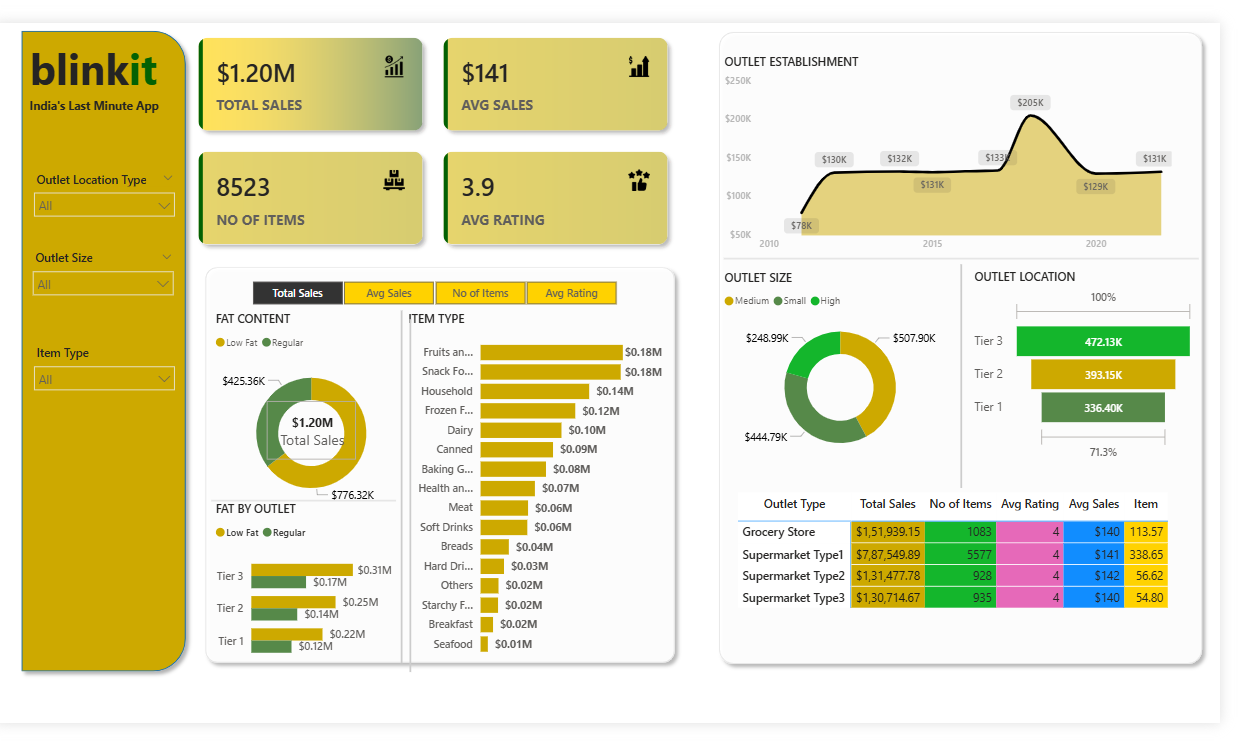

What the dashboard file says about the page in this screenshot:
{"tool":"powerbi","page":{"name":"Page 1","canvas":[1400,800],"ordinal":0},"visuals":[{"type":"shape","box":[21.1,0,205.6,750],"z":0},{"type":"textbox","box":[4,80,218,84],"z":1000},{"type":"textbox","box":[262.7,400,204.5,350],"z":2000},{"type":"textbox","box":[26,14,174,88],"z":3000},{"type":"cardVisual","fields":{"Data":["BlinkIT Grocery Data.Total Sales","BlinkIT Grocery Data.Avg Sales","BlinkIT Grocery Data.No of Items","BlinkIT Grocery Data.Avg Rating"]},"box":[215.7,0,570,270],"z":4000},{"type":"shape","box":[231.4,270,554.3,470],"z":5000},{"type":"donutChart","title":"FAT CONTENT","fields":{"Y":["BlinkIT Grocery Data.Avg Rating"],"Category":["BlinkIT Grocery Data.Item Fat Content"]},"box":[247.5,328.8,229,235],"z":6000},{"type":"slicer","fields":{"Values":["Metrics.Metrics"]},"box":[268.6,288.6,465.7,40],"z":7000},{"type":"cardVisual","fields":{"Data":["BlinkIT Grocery Data.Avg Rating"]},"box":[306.2,427.5,112.5,77.5],"z":8000},{"type":"clusteredBarChart","title":"FAT BY OUTLET","fields":{"Y":["BlinkIT Grocery Data.Avg Rating"],"Category":["BlinkIT Grocery Data.Outlet Location Type"],"Series":["BlinkIT Grocery Data.Item Fat Content"]},"box":[247.5,546.2,211.2,195],"z":9000},{"type":"shape","box":[247.5,517.5,211.2,57.5],"z":10000},{"type":"shape","box":[458.9,328.9,12.2,403.3],"z":11000},{"type":"barChart","title":"ITEM TYPE","fields":{"Y":["BlinkIT Grocery Data.Avg Rating"],"Category":["BlinkIT Grocery Data.Item Type"]},"box":[467.1,328.6,300,404.3],"z":12000},{"type":"shape","box":[818.6,1.4,570,740],"z":13000},{"type":"lineChart","title":"OUTLET ESTABLISHMENT","fields":{"Category":["BlinkIT Grocery Data.Outlet Establishment Year"],"Y":["BlinkIT Grocery Data.Total Sales"]},"box":[828.6,34.3,521.4,235.7],"z":14000},{"type":"shape","box":[832.9,254.3,542.9,30],"z":15000},{"type":"donutChart","title":"OUTLET SIZE","fields":{"Y":["BlinkIT Grocery Data.Total Sales"],"Category":["BlinkIT Grocery Data.Outlet Size"]},"box":[828.6,281.4,275,225],"z":16000},{"type":"shape","box":[1088.6,275.7,31.4,255.7],"z":17000},{"type":"funnel","title":"OUTLET LOCATION","fields":{"Y":["Sum(BlinkIT Grocery Data.Sales)"],"Category":["BlinkIT Grocery Data.Outlet Location Type"]},"box":[1114.3,280,261.4,225.7],"z":18000},{"type":"pivotTable","fields":{"Rows":["BlinkIT Grocery Data.Outlet Type"],"Values":["BlinkIT Grocery Data.Total Sales","BlinkIT Grocery Data.No of Items","BlinkIT Grocery Data.Avg Rating","BlinkIT Grocery Data.Avg Sales","Sum(BlinkIT Grocery Data.Item Visibility)"]},"box":[844.3,531.4,505.7,170],"z":19000},{"type":"slicer","fields":{"Values":["BlinkIT Grocery Data.Outlet Location Type"]},"box":[34.3,164.3,181.4,128.6],"z":20000},{"type":"shape","box":[468.9,338.9,12.2,403.3],"z":21000},{"type":"slicer","fields":{"Values":["BlinkIT Grocery Data.Outlet Size"]},"box":[32.9,254.3,181.4,128.6],"z":22000},{"type":"slicer","fields":{"Values":["BlinkIT Grocery Data.Item Type"]},"box":[34.3,362.9,181.4,128.6],"z":23000}]}

Visuals, with their boxes on the page's 1400x800 design canvas (x1, y1, x2, y2). These are canvas units, not pixel positions in the 1239x741 screenshot, which may show the page scaled, cropped or inside an application window:
shape: [21,0,227,750]
textbox: [4,80,222,164]
textbox: [263,400,467,750]
textbox: [26,14,200,102]
cardVisual - BlinkIT Grocery Data.Total Sales x BlinkIT Grocery Data.Avg Sales: [216,0,786,270]
shape: [231,270,786,740]
"FAT CONTENT" donutChart: [248,329,476,564]
slicer - Metrics.Metrics: [269,289,734,329]
cardVisual - BlinkIT Grocery Data.Avg Rating: [306,428,419,505]
"FAT BY OUTLET" clusteredBarChart: [248,546,459,741]
shape: [248,518,459,575]
shape: [459,329,471,732]
"ITEM TYPE" barChart: [467,329,767,733]
shape: [819,1,1389,741]
"OUTLET ESTABLISHMENT" lineChart: [829,34,1350,270]
shape: [833,254,1376,284]
"OUTLET SIZE" donutChart: [829,281,1104,506]
shape: [1089,276,1120,531]
"OUTLET LOCATION" funnel: [1114,280,1376,506]
pivotTable - BlinkIT Grocery Data.Outlet Type x BlinkIT Grocery Data.Total Sales: [844,531,1350,701]
slicer - BlinkIT Grocery Data.Outlet Location Type: [34,164,216,293]
shape: [469,339,481,742]
slicer - BlinkIT Grocery Data.Outlet Size: [33,254,214,383]
slicer - BlinkIT Grocery Data.Item Type: [34,363,216,492]
